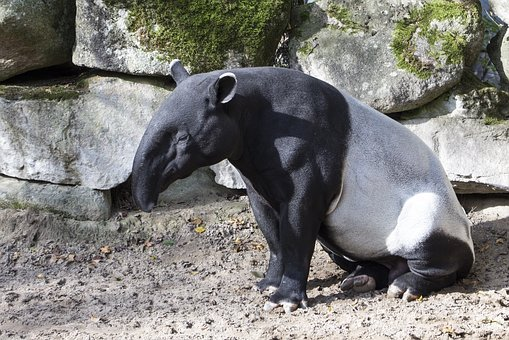Anta: (123, 48, 483, 314)
